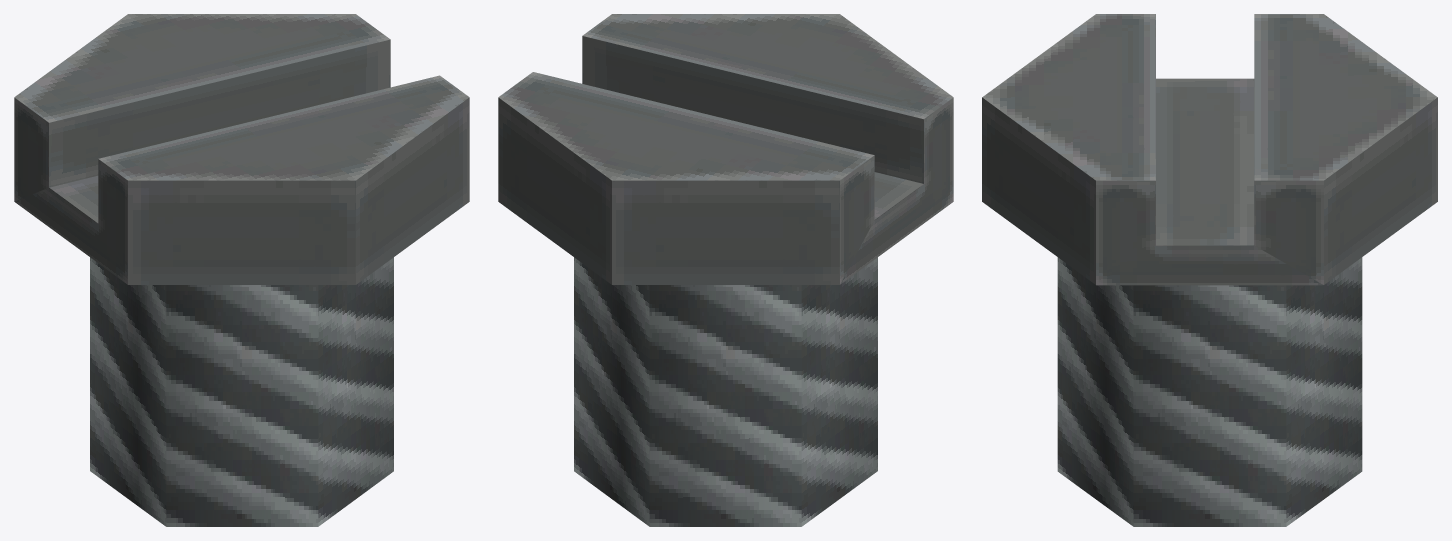
The model's file is tornillo.obj.
3 renders of one model, left to right at view 1: azimuth 30°, elevation 25°; view 2: azimuth 150°, elevation 25°; view 3: azimuth 270°, elevation 25°, orthographic.
Parts seen in each view (by area): view 1: Object01, Object02; view 2: Object01, Object02; view 3: Object01, Object02.
Part boxes in pixels (left/top/right/bottom): Object01: left=14, top=14, right=469, bottom=284; Object02: left=90, top=257, right=393, bottom=526; Object01: left=498, top=14, right=953, bottom=284; Object02: left=574, top=257, right=877, bottom=526; Object01: left=982, top=14, right=1437, bottom=285; Object02: left=1057, top=257, right=1362, bottom=526.
Size of the model in its own units: 11.1 by 11.61 by 12.82.
